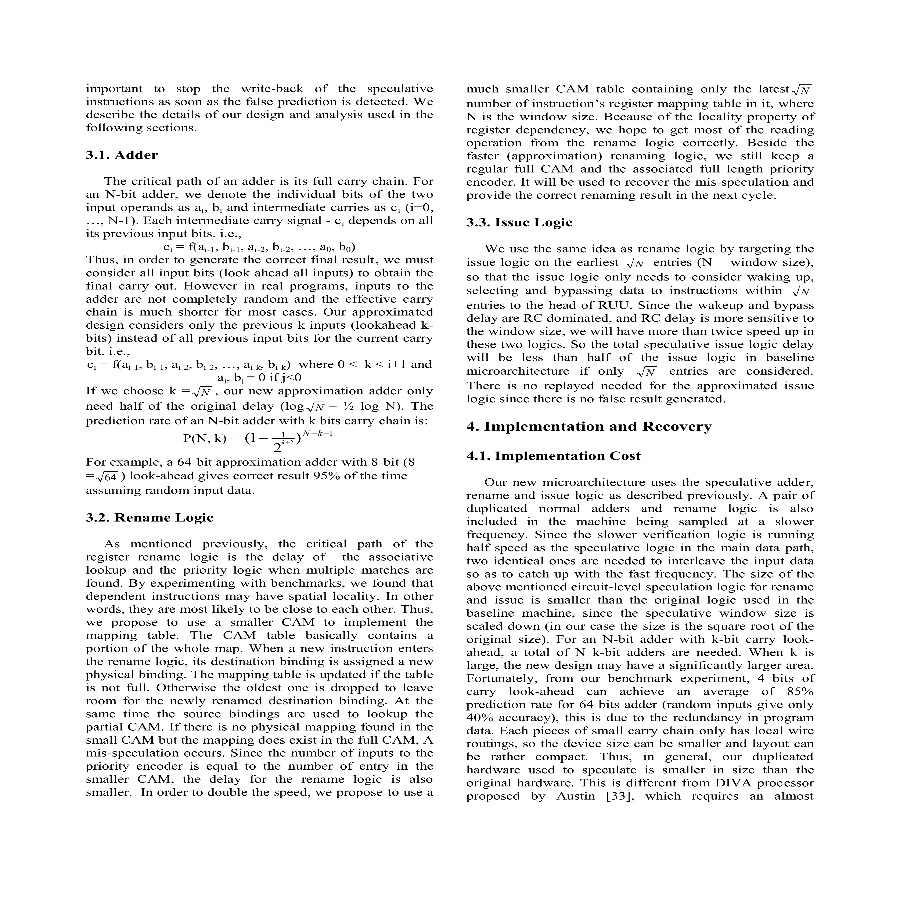eq: (82, 358, 433, 382), (179, 428, 337, 453)
